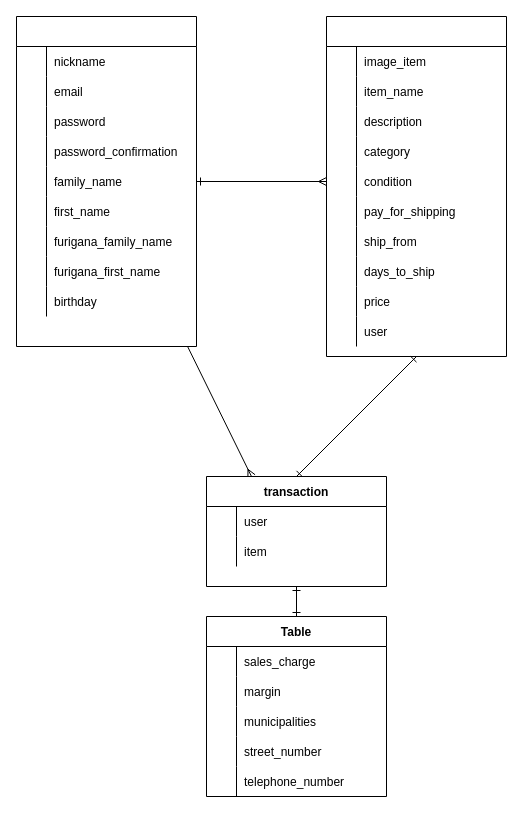
The diagram is 523 pixels wide and 813 high, and some of its shapes have lost their labels. Here are the shapes that lost their labels. From the top down, the box of each, then its label:
(16, 16, 196, 346): users
(326, 16, 506, 356): items
